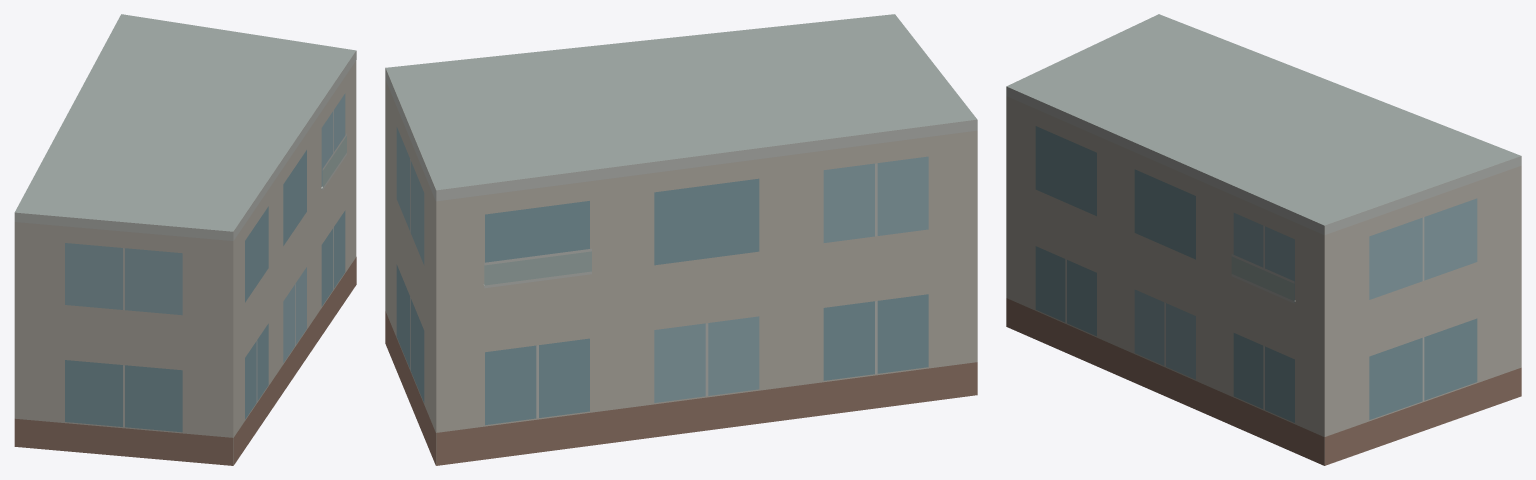
Rendered from survey-upis-33030769.glb.
The picture shows the model from 3 angles, left to right: view 1: azimuth 30°, elevation 25°; view 2: azimuth 150°, elevation 25°; view 3: azimuth 270°, elevation 25°; orthographic projection. The views are drawn at different scales.
Parts seen in each view (by area): view 1: survey-upis-33030769.tmp; view 2: survey-upis-33030769.tmp; view 3: survey-upis-33030769.tmp.
Boxes of the visible parts, x1,y1,x2,y2 form: survey-upis-33030769.tmp: (14, 14, 356, 465); survey-upis-33030769.tmp: (385, 14, 977, 465); survey-upis-33030769.tmp: (1006, 14, 1521, 465).
Size of the model in its own units: 11.53 by 6.1 by 11.87.
